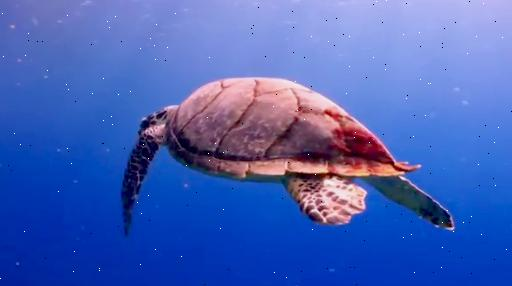Fish: (122, 78, 454, 236)
